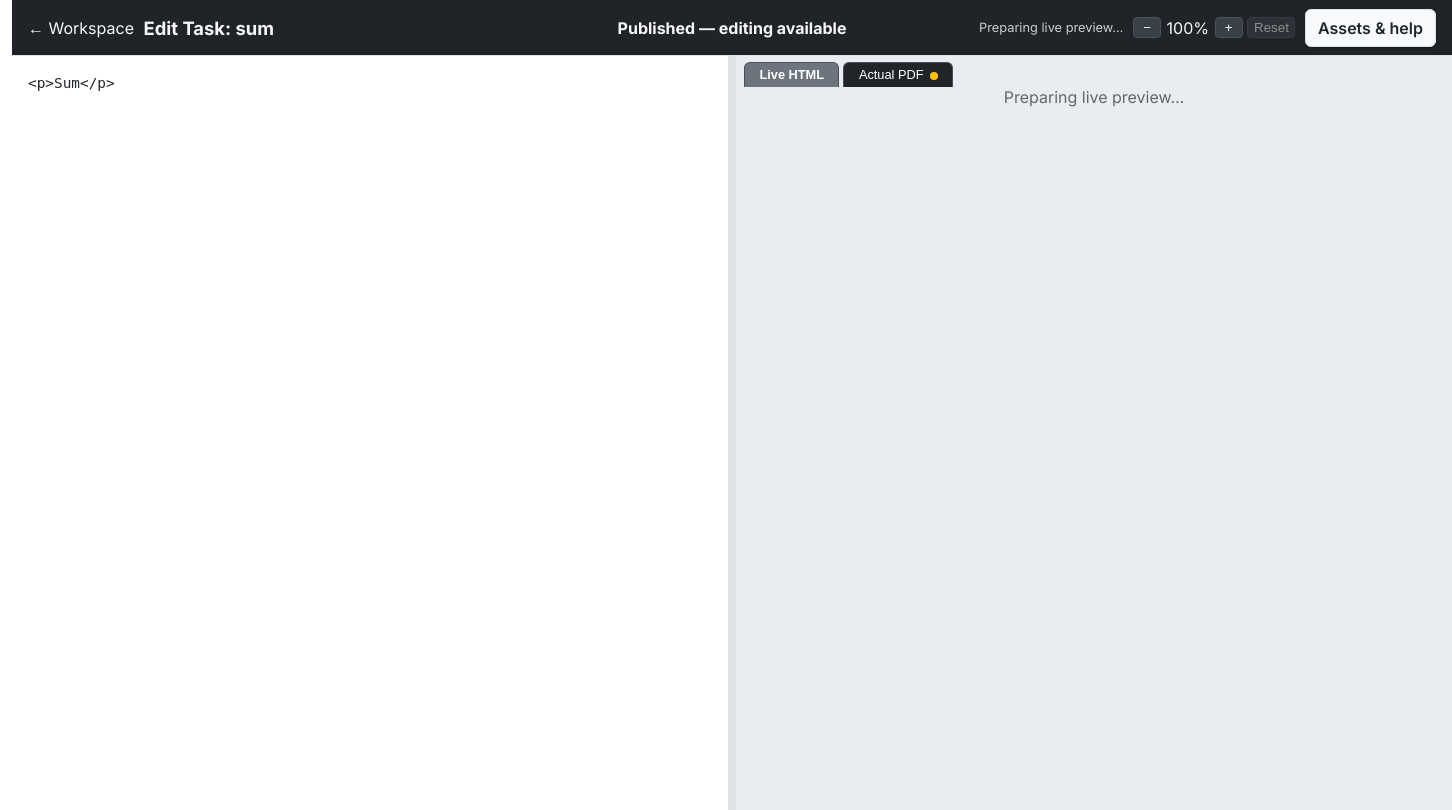
Scenario: published statements can begin a new revision in the full-screen editor
The image size is (1452, 810).
Replace the text in the text box named "Statement source" with "<p>Corrected</p>" at (370, 433), box [12,56,728,809]
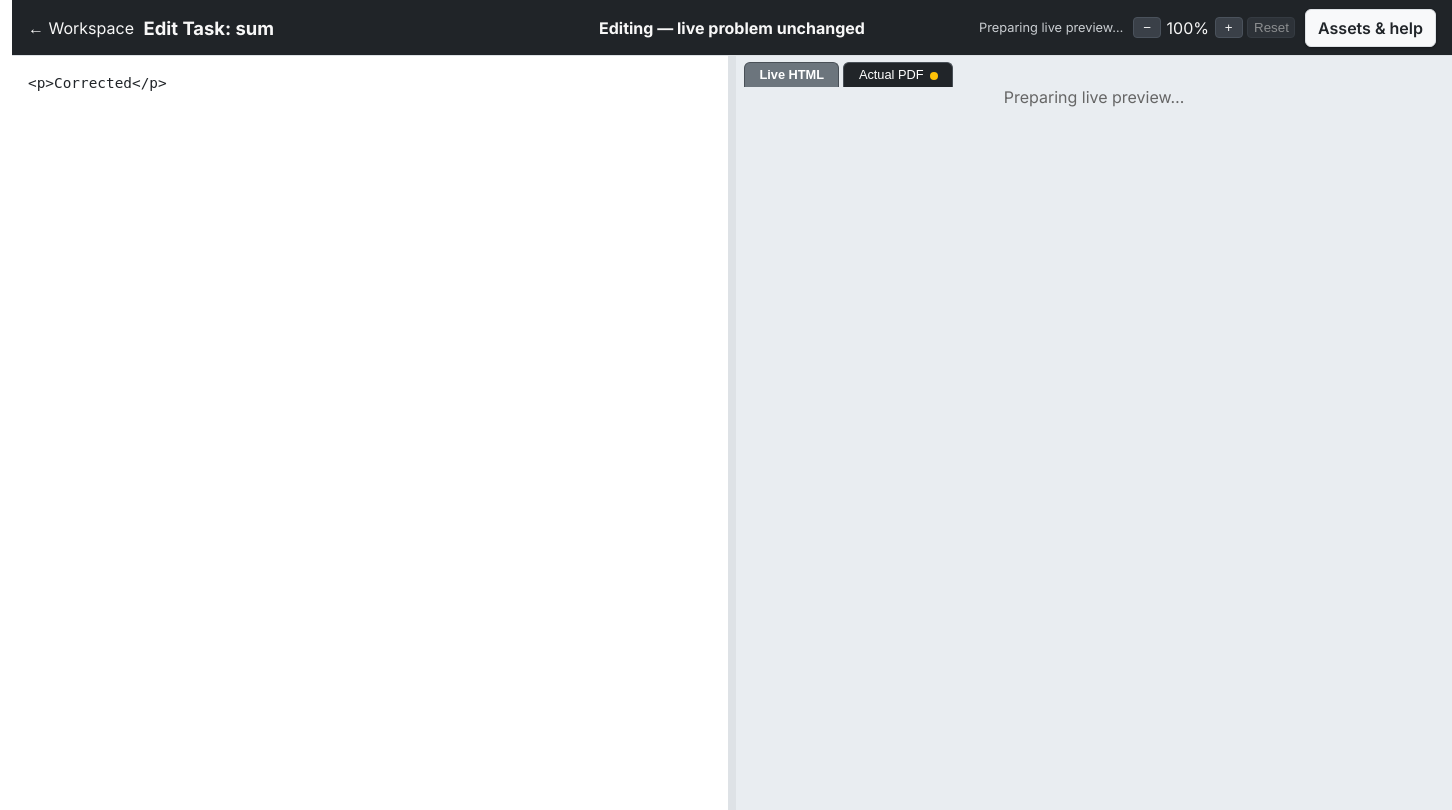
Expected: the text "Editing — live problem unchanged" is shown, [599,18,865,38]
